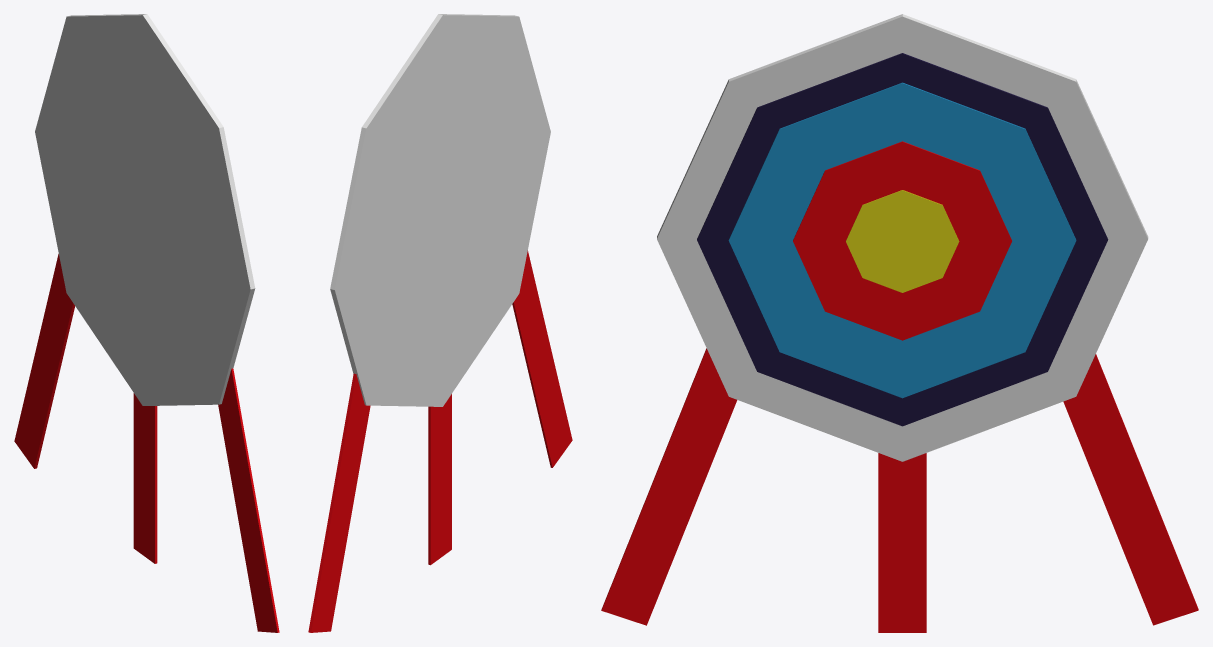
File: S_Arrow_Targets.fbx
3 renders of one model, left to right at view 1: azimuth 30°, elevation 25°; view 2: azimuth 150°, elevation 25°; view 3: azimuth 270°, elevation 25°, orthographic. The views are drawn at different scales.
Parts seen in each view (by area): view 1: Cylinder.003; view 2: Cylinder.003; view 3: Cylinder.003.
Part boxes in pixels (x1,y1,x2,y2): Cylinder.003: [14, 14, 279, 632]; Cylinder.003: [308, 14, 572, 632]; Cylinder.003: [601, 14, 1198, 632].
Size of the model in its own units: 1.8 by 104 by 91.25.
